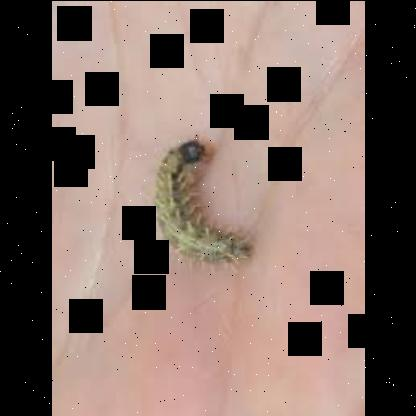oruga: (145, 131, 255, 269)
